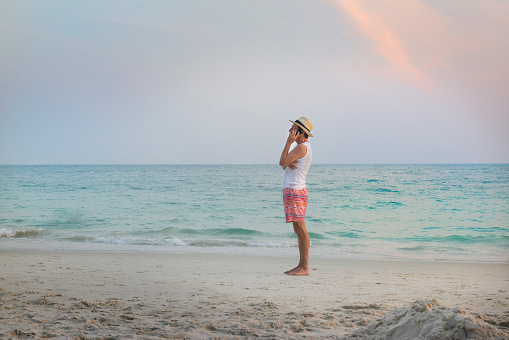em pe: (270, 103, 323, 280)
